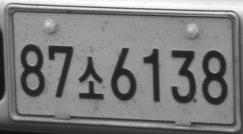1: (140, 48, 168, 102)
3: (170, 49, 196, 104)
6: (109, 47, 137, 102)
7: (48, 45, 73, 98)
8: (201, 49, 228, 106), (19, 43, 45, 96)
소: (77, 56, 104, 99)
